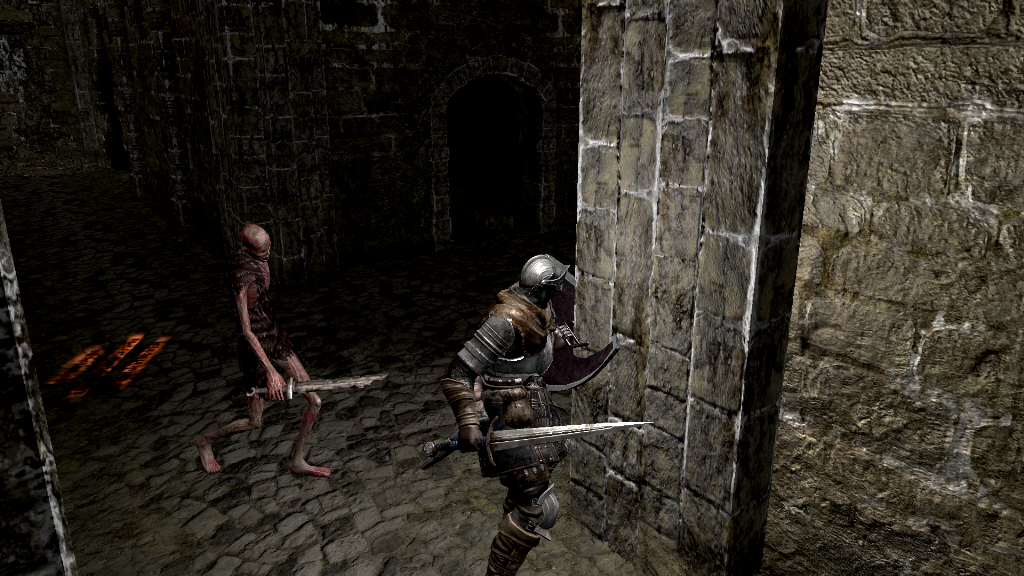hollow: (196, 224, 334, 478)
player: (421, 253, 657, 576)
